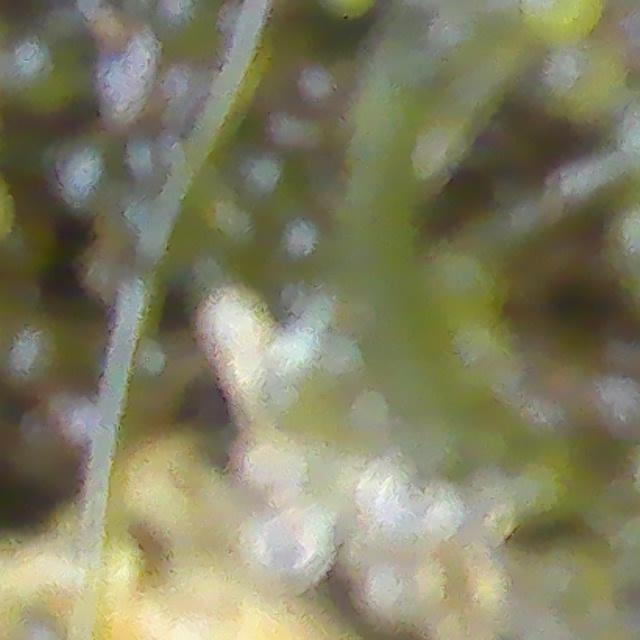SeaGrape: (358, 550, 453, 628), (231, 500, 328, 573), (350, 456, 432, 534), (0, 34, 85, 104), (547, 47, 626, 122), (413, 483, 470, 552)
